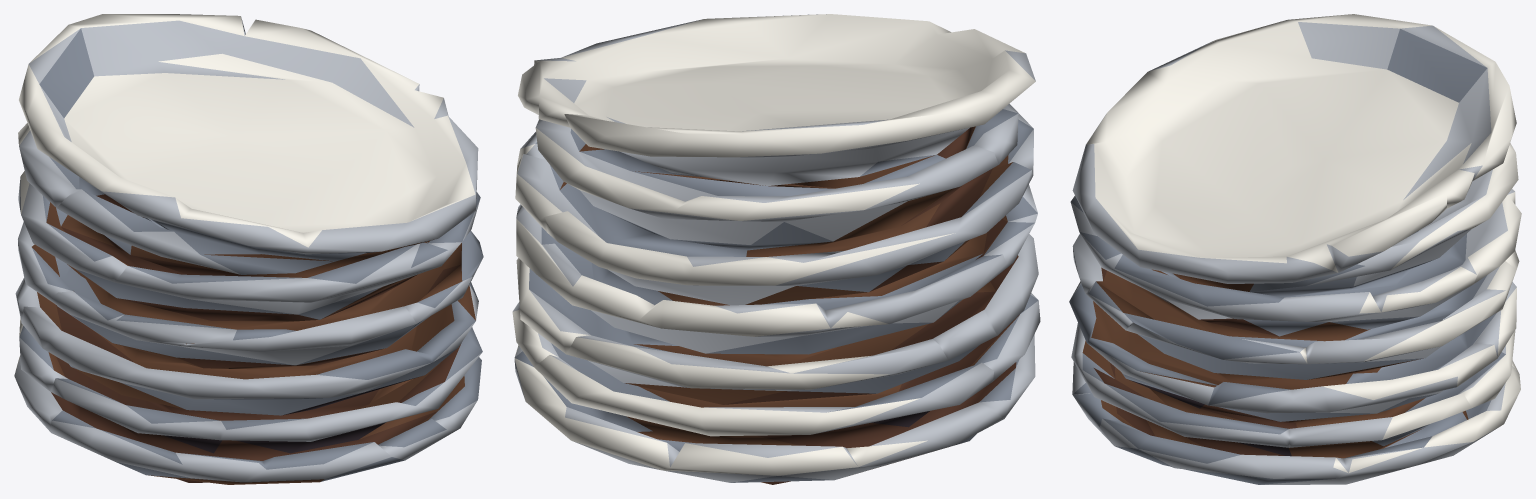
Rendered from SM_plates_stack.glb.
3 views of the same model, side by side, from view 1: azimuth 30°, elevation 25°; view 2: azimuth 150°, elevation 25°; view 3: azimuth 270°, elevation 25° (orthographic). The views are drawn at different scales.
Visible parts, largest first — view 1: SM_plates_stack; view 2: SM_plates_stack; view 3: SM_plates_stack.
Boxes of the visible parts, x1=… form: SM_plates_stack: x1=14, y1=14, x2=483, y2=484; SM_plates_stack: x1=512, y1=14, x2=1040, y2=484; SM_plates_stack: x1=1069, y1=14, x2=1521, y2=484.
Size of the model in its own units: 0.1759 by 0.14 by 0.1763.
Materials: 1 (1 with a texture image).
